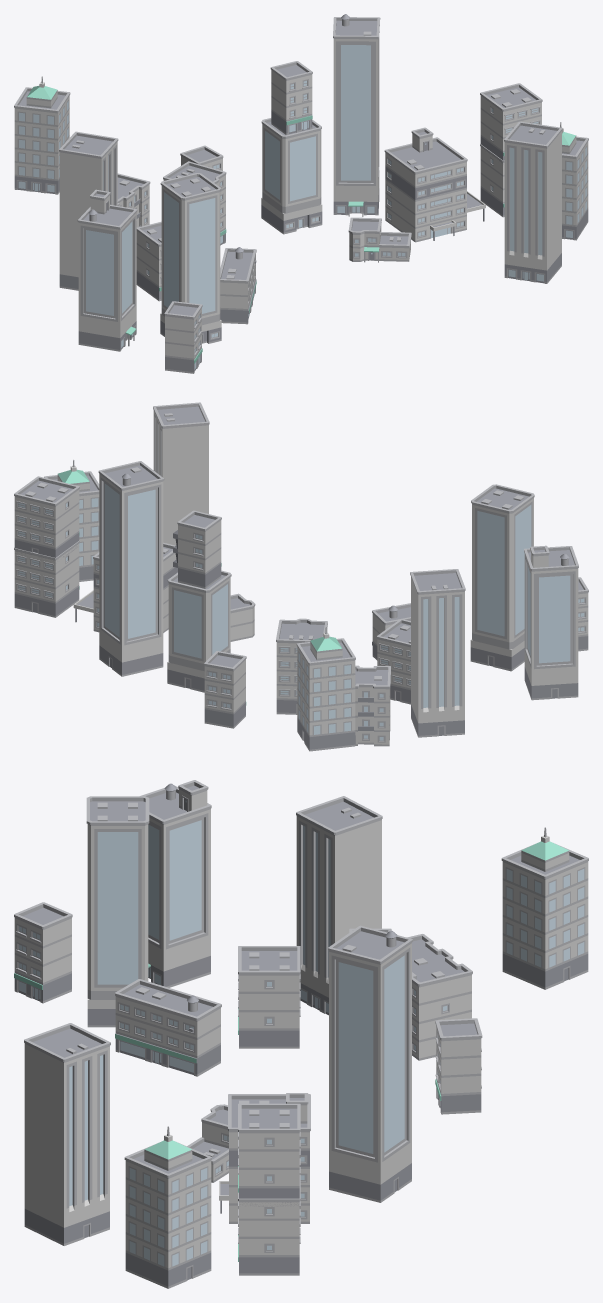
Rendered from city.glb.
3 views of the same model, one above another, from view 1: azimuth 30°, elevation 25°; view 2: azimuth 150°, elevation 25°; view 3: azimuth 270°, elevation 25° (orthographic). The views are drawn at different scales.
Visible parts, largest first — view 1: skyscraperD, skyscraperF, skyscraperC, skyscraperB, large_buildingG, skyscraperA, skyscraperF.001, skyscraperE.001, large_buildingD.002, large_buildingC, skyscraperE, large_buildingF (+7 smaller); view 2: skyscraperD, skyscraperB, skyscraperF.001, skyscraperC, skyscraperE.001, skyscraperF, skyscraperA, large_buildingD.002, large_buildingD.001, large_buildingC, large_buildingB.001, large_buildingA (+7 smaller); view 3: skyscraperD, skyscraperF, skyscraperF.001, skyscraperB, skyscraperC, skyscraperE, skyscraperE.001, large_buildingF, large_buildingD, large_buildingD.002, large_buildingB, large_buildingA (+4 smaller).
Boxes of the visible parts, x1,y1,x2,y2 form: skyscraperD: [333, 14, 380, 216]; skyscraperF: [504, 121, 562, 283]; skyscraperC: [77, 189, 137, 351]; skyscraperB: [160, 173, 221, 343]; large_buildingG: [384, 127, 485, 242]; skyscraperA: [261, 118, 322, 234]; skyscraperF.001: [59, 131, 118, 290]; skyscraperE.001: [14, 76, 70, 194]; large_buildingD.002: [480, 83, 542, 164]; large_buildingC: [270, 61, 312, 134]; skyscraperE: [560, 122, 588, 240]; large_buildingF: [220, 247, 256, 324]; skyscraperD: [98, 461, 164, 676]; skyscraperB: [470, 484, 534, 671]; skyscraperF.001: [410, 569, 465, 737]; skyscraperC: [524, 545, 578, 700]; skyscraperE.001: [296, 626, 355, 751]; skyscraperF: [153, 402, 209, 545]; skyscraperA: [167, 570, 231, 692]; large_buildingD.002: [14, 476, 79, 563]; large_buildingD.001: [14, 540, 79, 617]; large_buildingC: [173, 510, 221, 588]; large_buildingB.001: [204, 651, 246, 728]; large_buildingA: [355, 665, 390, 746]; skyscraperD: [328, 925, 412, 1202]; skyscraperF: [24, 1023, 110, 1245]; skyscraperF.001: [296, 796, 382, 1015]; skyscraperB: [86, 796, 149, 1027]; skyscraperC: [140, 780, 211, 987]; skyscraperE: [124, 1126, 211, 1288]; skyscraperE.001: [501, 827, 588, 989]; large_buildingF: [115, 979, 221, 1076]; large_buildingD: [238, 946, 300, 1048]; large_buildingD.002: [238, 1103, 300, 1206]; large_buildingB: [14, 902, 72, 1003]; large_buildingA: [407, 934, 472, 1060].
Size of the model in its own units: 15.72 by 5.5 by 11.38.
